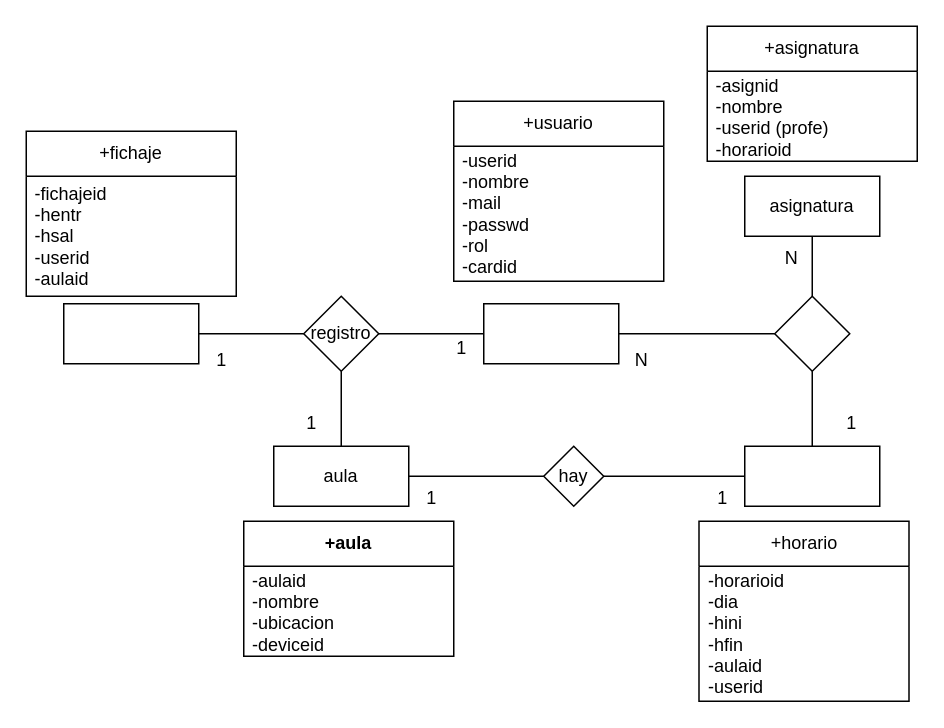
Image size: 944x728. Some labels were removed from this diagram. Each missing label, with the centre of its shape:
"fichaje" belongs at (130,333).
"horario" belongs at (811,475).
"tiene" belongs at (811,333).
"usuario" belongs at (550,333).
